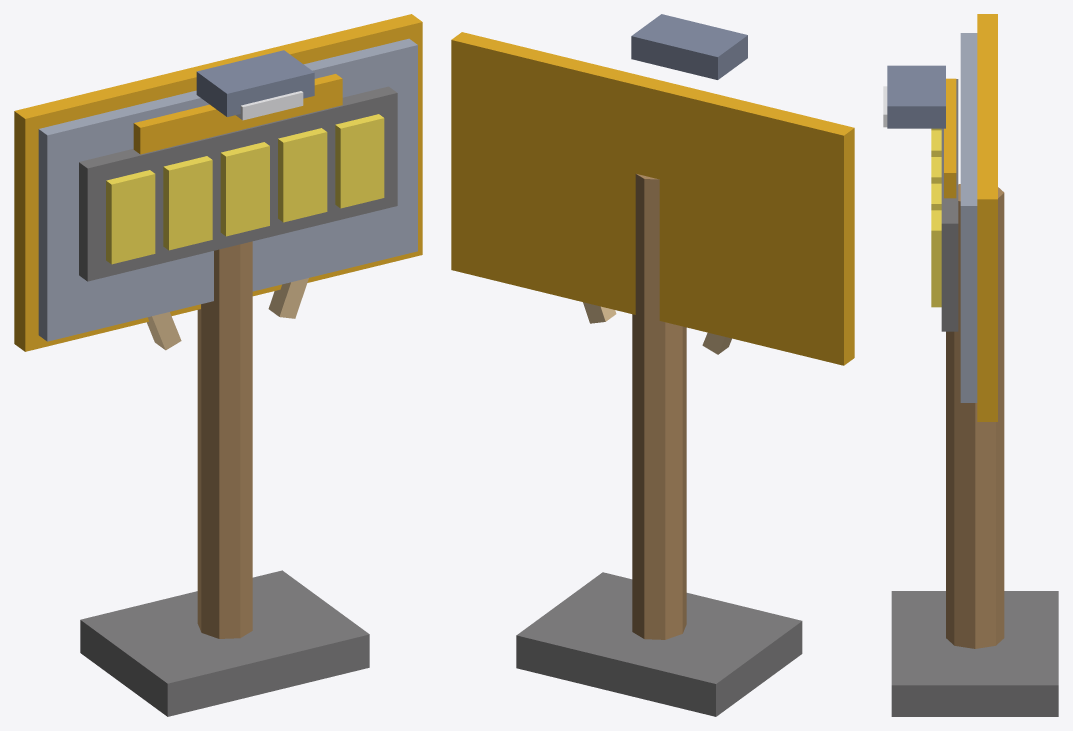
The model's file is record_board.glb.
3 renders of one model, left to right at view 1: azimuth 30°, elevation 25°; view 2: azimuth 150°, elevation 25°; view 3: azimuth 270°, elevation 25°, orthographic. The views are drawn at different scales.
Parts seen in each view (by area): view 1: record_board; view 2: record_board; view 3: record_board.
Part boxes in pixels (bbox=[...]): record_board: bbox=[14, 14, 422, 716]; record_board: bbox=[451, 14, 854, 716]; record_board: bbox=[883, 14, 1058, 716].
Bounding box in the file's own units: 1.25 × 1.83 × 0.5.
